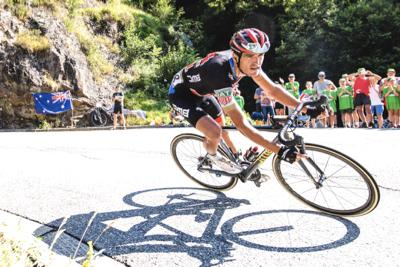With Helmet: (231, 24, 271, 79)
